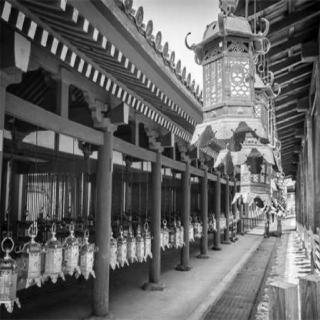other: (14, 5, 201, 162), (218, 201, 262, 225)
